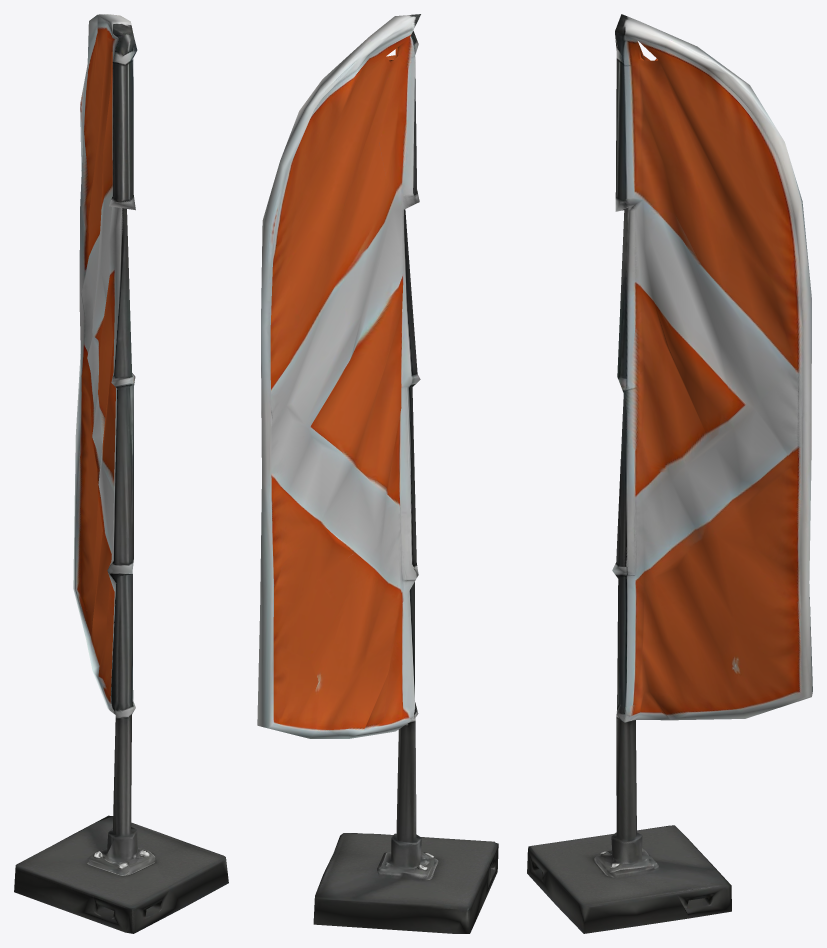
File: teluk-flag.glb
The picture shows the model from 3 angles, left to right: view 1: azimuth 30°, elevation 25°; view 2: azimuth 150°, elevation 25°; view 3: azimuth 270°, elevation 25°; orthographic projection.
Parts seen in each view (by area): view 1: teluk-flag; view 2: teluk-flag; view 3: teluk-flag.
Part boxes in pixels (x1,y1,x2,y2): teluk-flag: [14, 14, 228, 933]; teluk-flag: [257, 14, 498, 933]; teluk-flag: [527, 14, 812, 933].
Size of the model in its own units: 1.44 by 7 by 2.08.
Materials: 1 (1 with a texture image).
